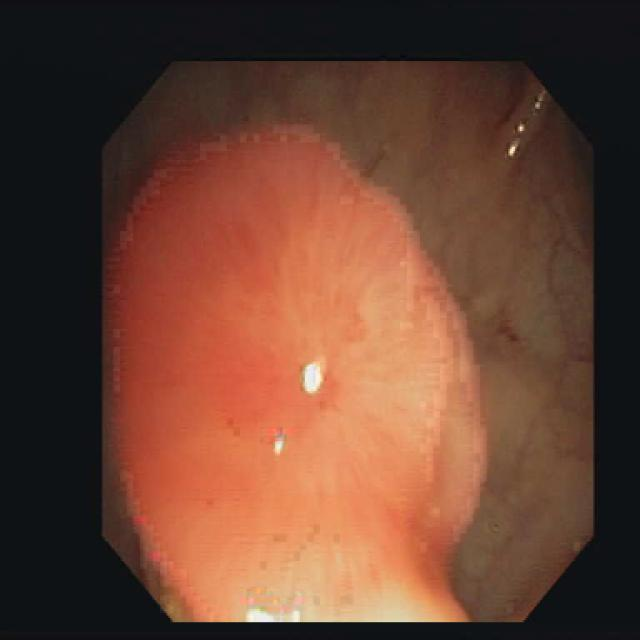tumor: (115, 133, 483, 620)
